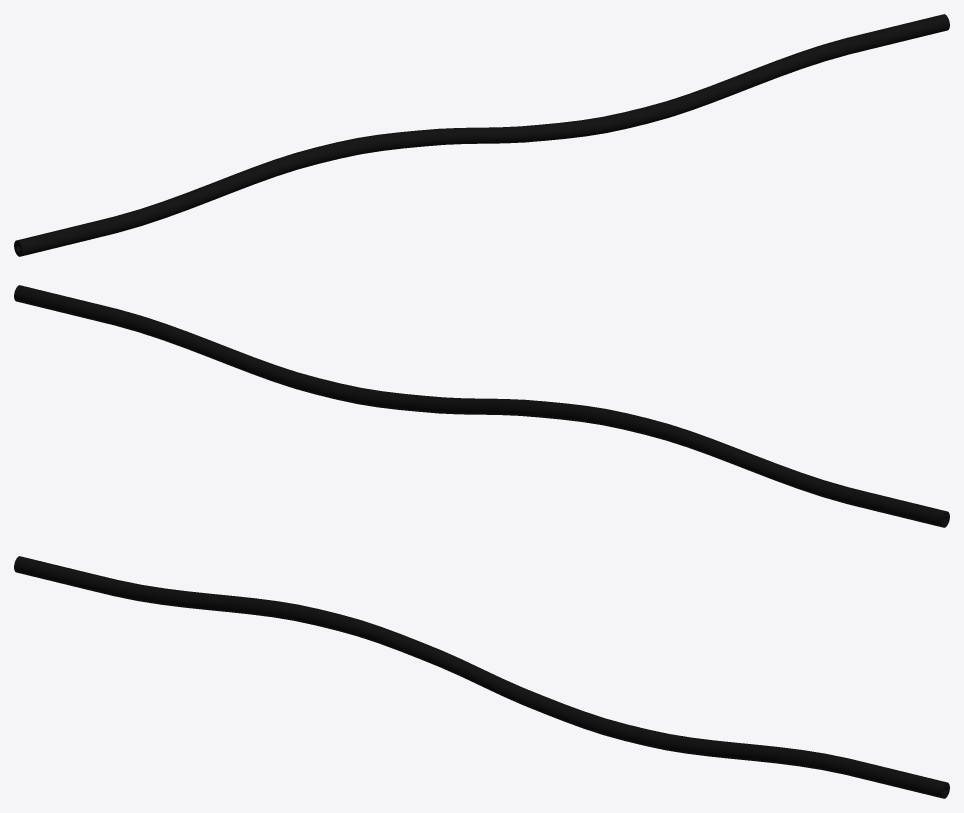
3 views of the same model, one above another, from view 1: azimuth 30°, elevation 25°; view 2: azimuth 150°, elevation 25°; view 3: azimuth 330°, elevation 25° (orthographic).
Parts seen in each view (by area): view 1: SB_Kevlar-02; view 2: SB_Kevlar-02; view 3: SB_Kevlar-02.
Boxes of the visible parts, left/top/right/bottom form: SB_Kevlar-02: left=14, top=14, right=949, bottom=256; SB_Kevlar-02: left=14, top=285, right=949, bottom=527; SB_Kevlar-02: left=14, top=556, right=949, bottom=798.
Bounding box in the file's own units: 0.3074 × 0.0175 × 0.00483.
1 material, 1 textured.
